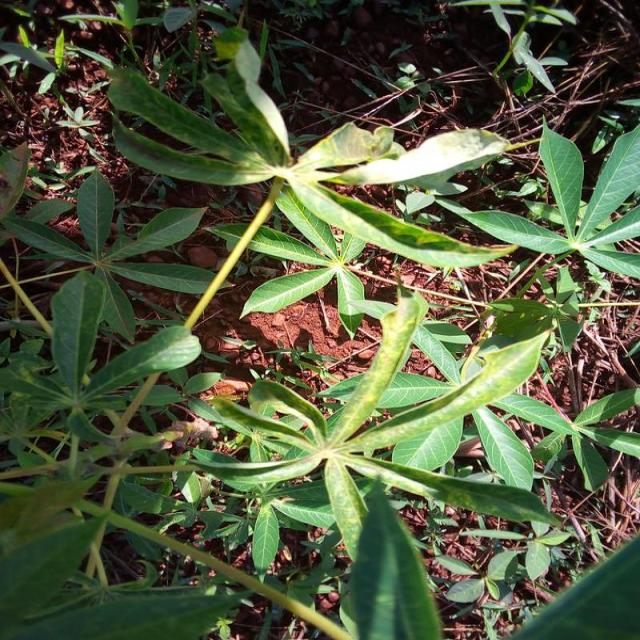cassava leaf: (97, 26, 517, 336)
